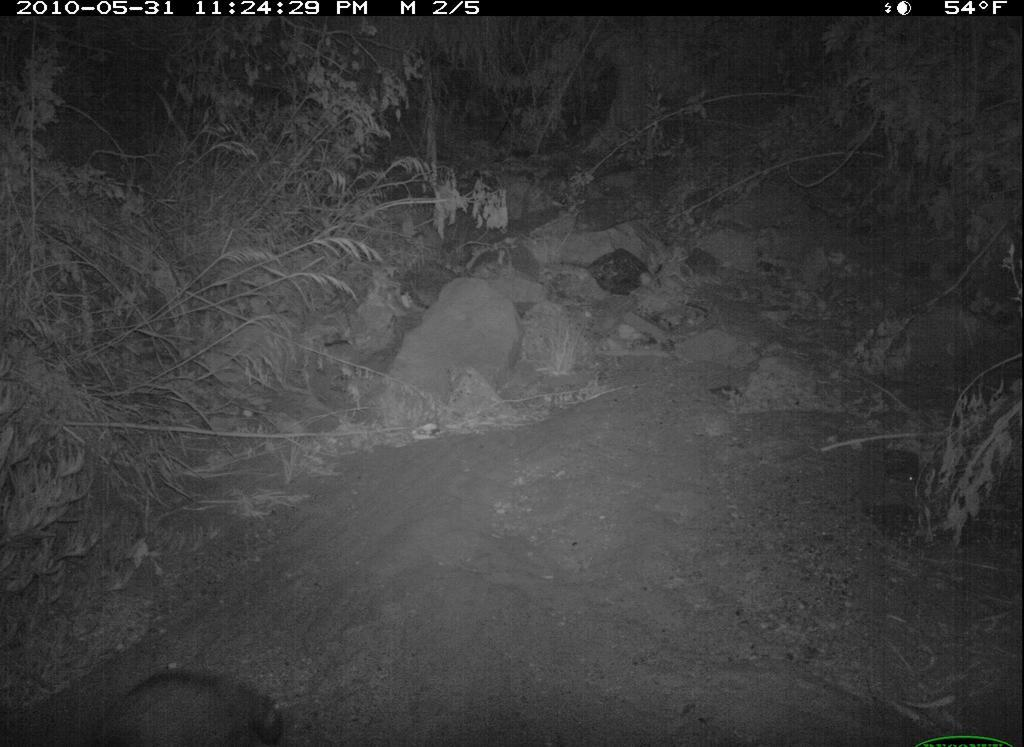raccoon: (65, 656, 314, 744)
